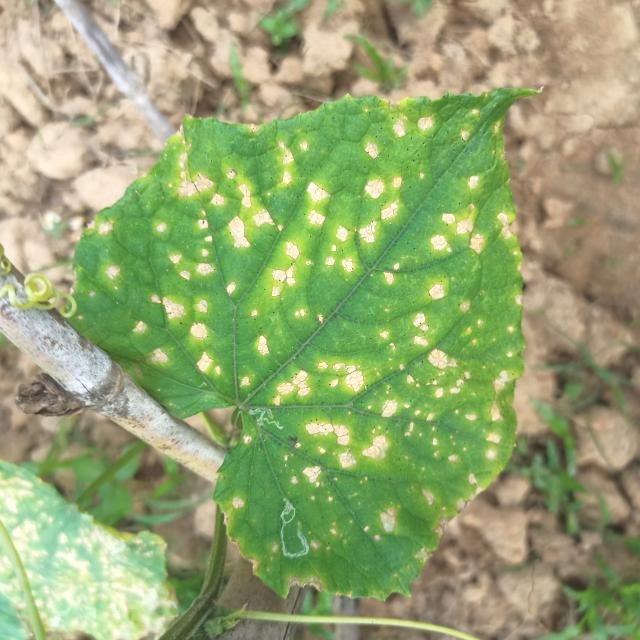disease_cucumber: (120, 110, 508, 560)
